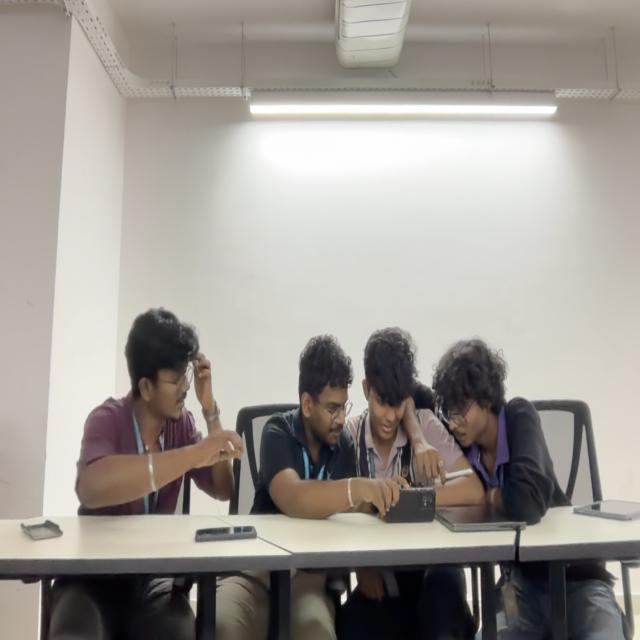Isolated: (82, 309, 224, 526)
socializing: (262, 328, 568, 522)
